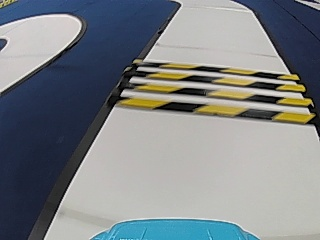bump: (146, 62, 286, 122)
